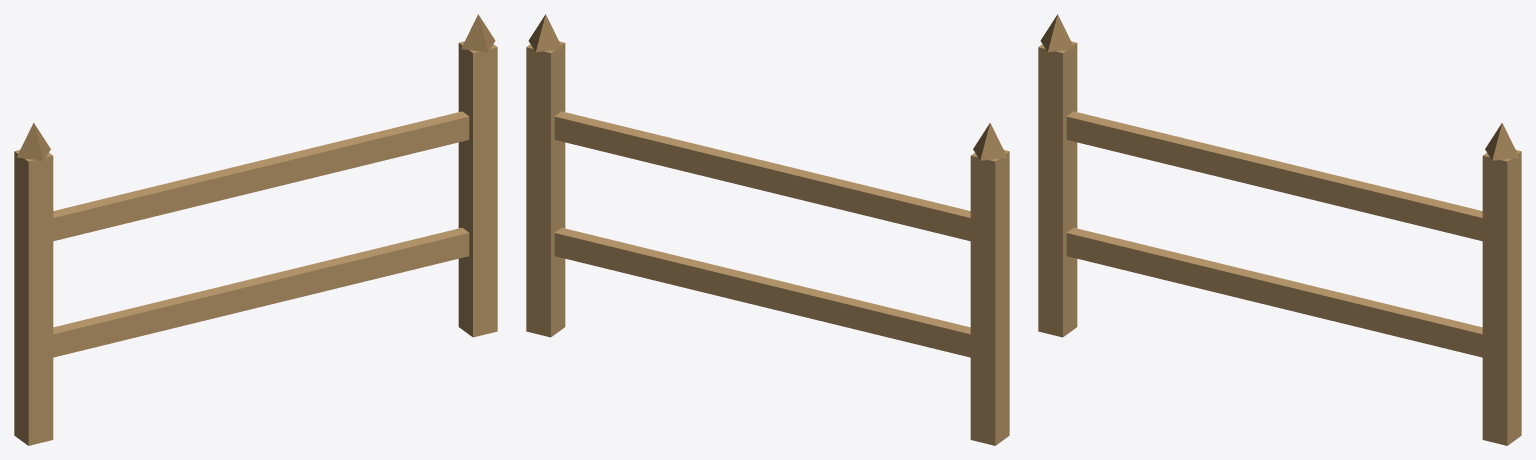
File: fence.glb
3 renders of one model, left to right at view 1: azimuth 30°, elevation 25°; view 2: azimuth 150°, elevation 25°; view 3: azimuth 330°, elevation 25°, orthographic.
Parts seen in each view (by area): view 1: Rail.001, Rail, Post, Post.001, PostTop.001, PostTop; view 2: Rail.001, Rail, Post, Post.001, PostTop.001, PostTop; view 3: Rail, Rail.001, Post.001, Post, PostTop, PostTop.001.
Part boxes in pixels (bbox=[...]): Rail.001: bbox=[17, 111, 469, 247]; Rail: bbox=[17, 227, 469, 364]; Post: bbox=[14, 150, 53, 445]; Post.001: bbox=[458, 41, 497, 337]; PostTop.001: bbox=[461, 14, 495, 52]; PostTop: bbox=[16, 123, 50, 160]; Rail.001: bbox=[554, 111, 1005, 247]; Rail: bbox=[554, 227, 1000, 363]; Post: bbox=[970, 150, 1009, 445]; Post.001: bbox=[526, 41, 565, 337]; PostTop.001: bbox=[528, 14, 562, 52]; PostTop: bbox=[973, 123, 1007, 160]; Rail: bbox=[1066, 227, 1518, 362]; Rail.001: bbox=[1066, 111, 1518, 247]; Post.001: bbox=[1482, 150, 1521, 445]; Post: bbox=[1038, 41, 1077, 337]; PostTop: bbox=[1040, 14, 1074, 52]; PostTop.001: bbox=[1485, 123, 1519, 160].
Size of the model in its own units: 1.94 by 1.22 by 0.14.
